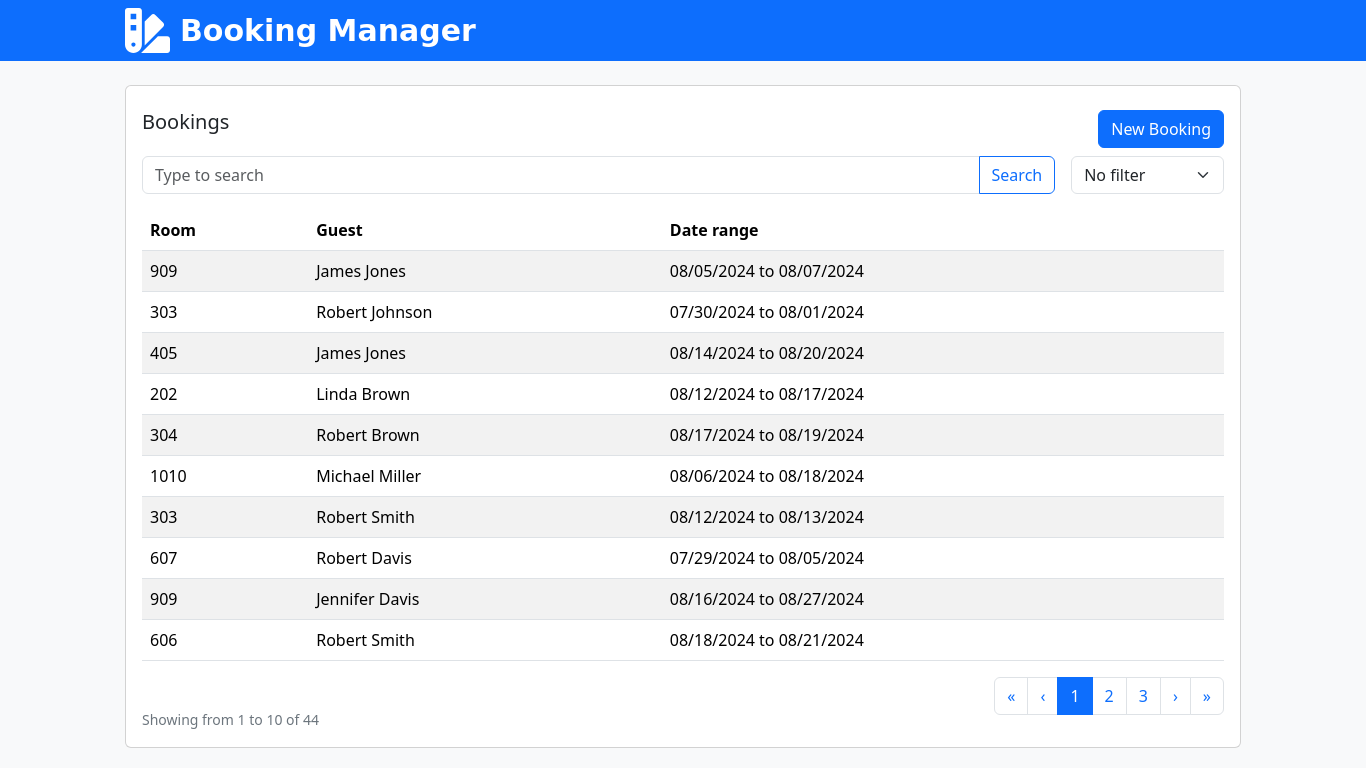
Test: Import multiple reservations and test pagination and filters › Click on the last and first page
expect the text with id "showing-table" reads "Showing from 1 to 10 of 44": met, box [142,710,319,729]
What coordinates should you click on to do the following:
click the button "»"
I would click on:
 (1207, 696)
Its box is [1190,677,1224,715].
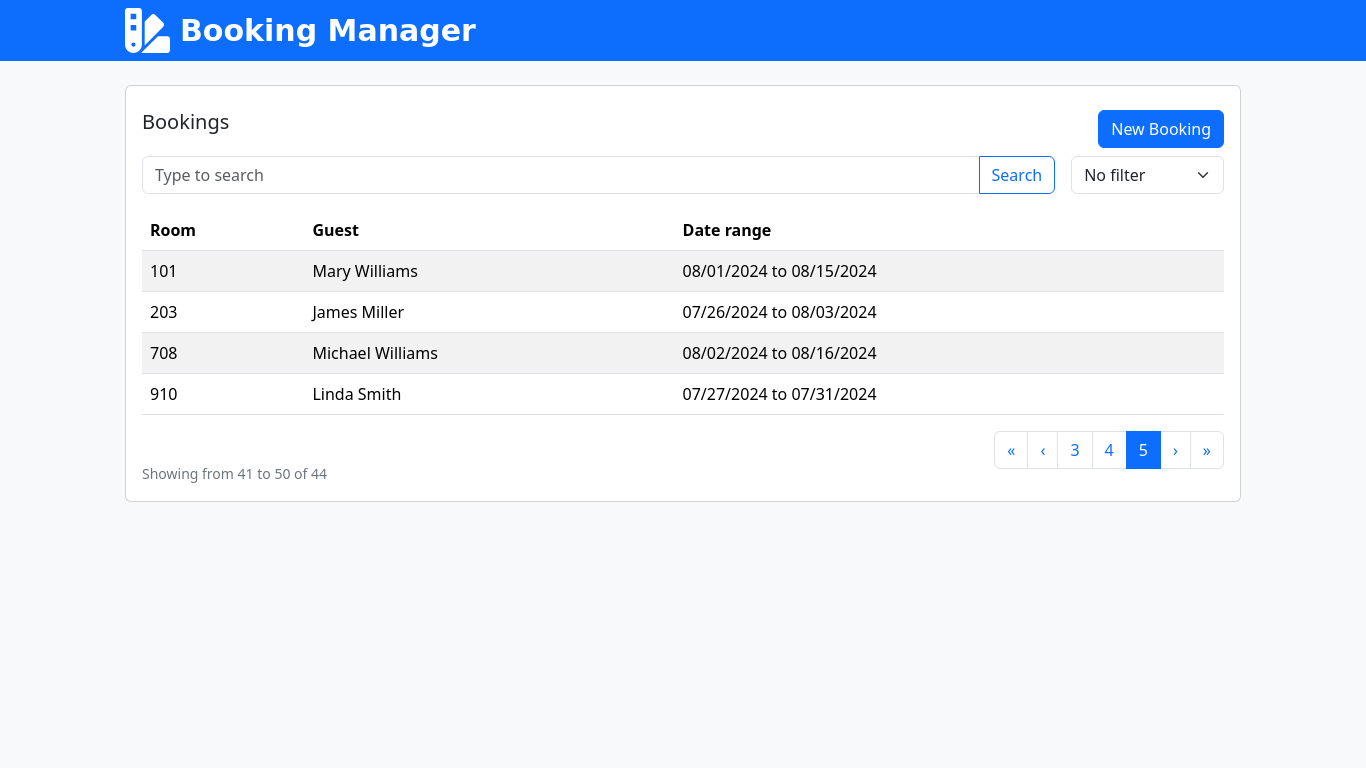
expect the element showing "5" is shown: met, box [1126,431,1161,469]
expect the text with id "showing-table" reads "Showing from 41 to 50 of 44": met, box [142,464,327,483]
What coordinates should you click on to do the following:
click the button "«"
I would click on:
 (1011, 450)
Its box is [994,431,1028,469].
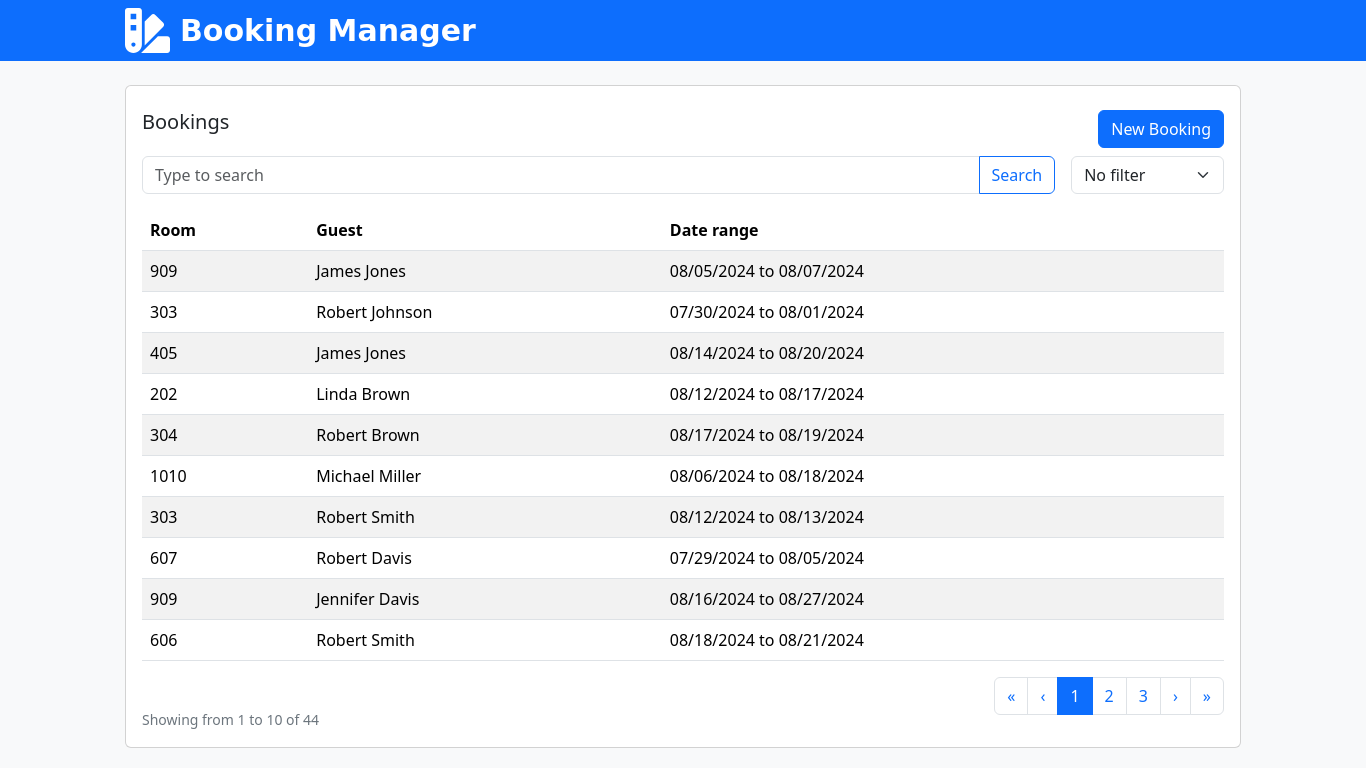
expect the element showing "1" is shown: met, box [1057,677,1093,715]
expect the text with id "showing-table" reads "Showing from 1 to 10 of 44": met, box [142,710,319,729]
